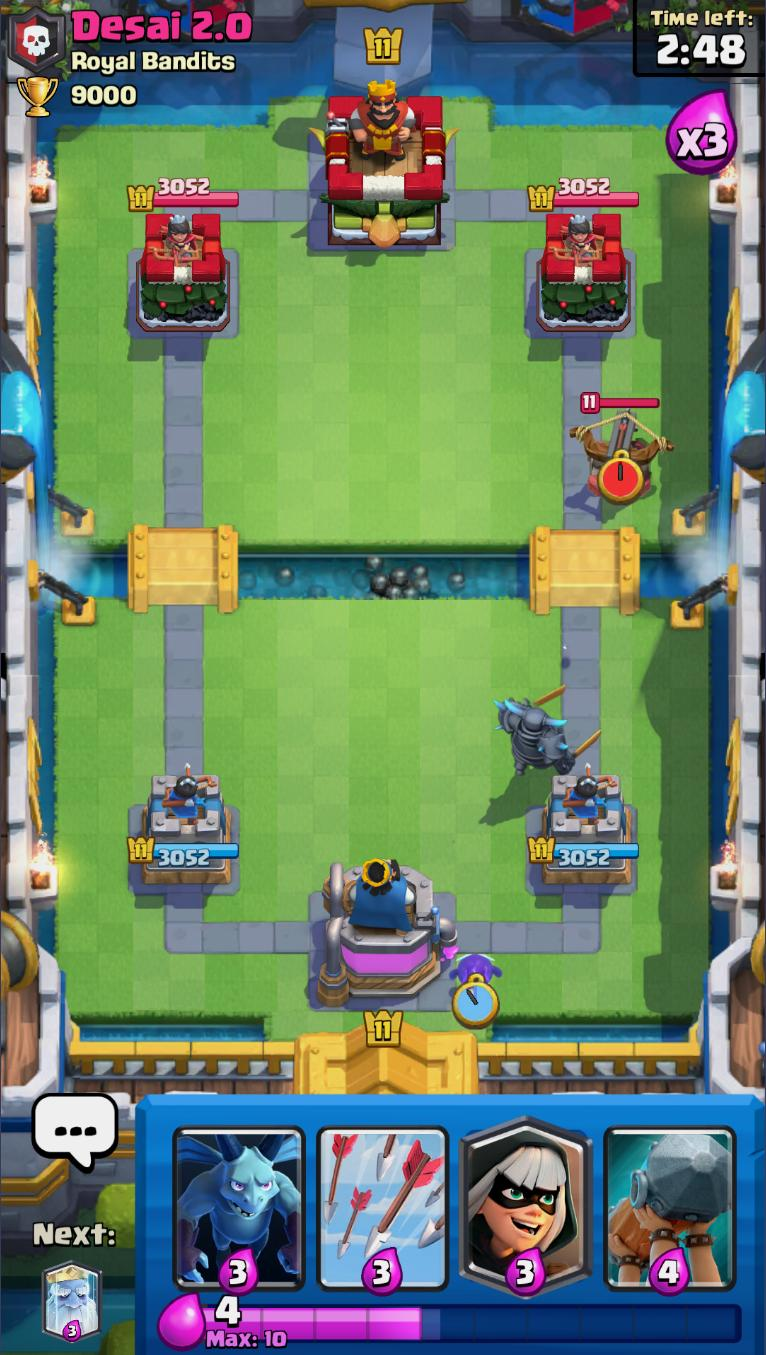ArrowDeck: (311, 1098, 454, 1300)
BanditDeck: (454, 1096, 600, 1297)
BattleRamDeck: (601, 1097, 740, 1295)
Elixir: (202, 1297, 745, 1350)
EnemyTower: (135, 212, 233, 336), (536, 212, 634, 333)
KingTower: (308, 66, 462, 250)
MinionsDeck: (169, 1094, 313, 1295)
MyElectroSpirit: (449, 952, 505, 990)
MyKingTower: (317, 854, 459, 1008)
MyPekka: (494, 686, 603, 778)
MyPrincessTower: (529, 769, 640, 886)
MyPrincessTowerBrocken: (128, 772, 239, 889)
MyPrincessTowerHP: (528, 837, 640, 869), (127, 836, 239, 868)
PrincessTower: (550, 216, 607, 267), (148, 213, 205, 264)
RoyaleGhostNext: (42, 1265, 104, 1342)
TowerPrincessHP: (529, 178, 641, 212), (128, 177, 240, 211)
XBow: (566, 391, 676, 502)
